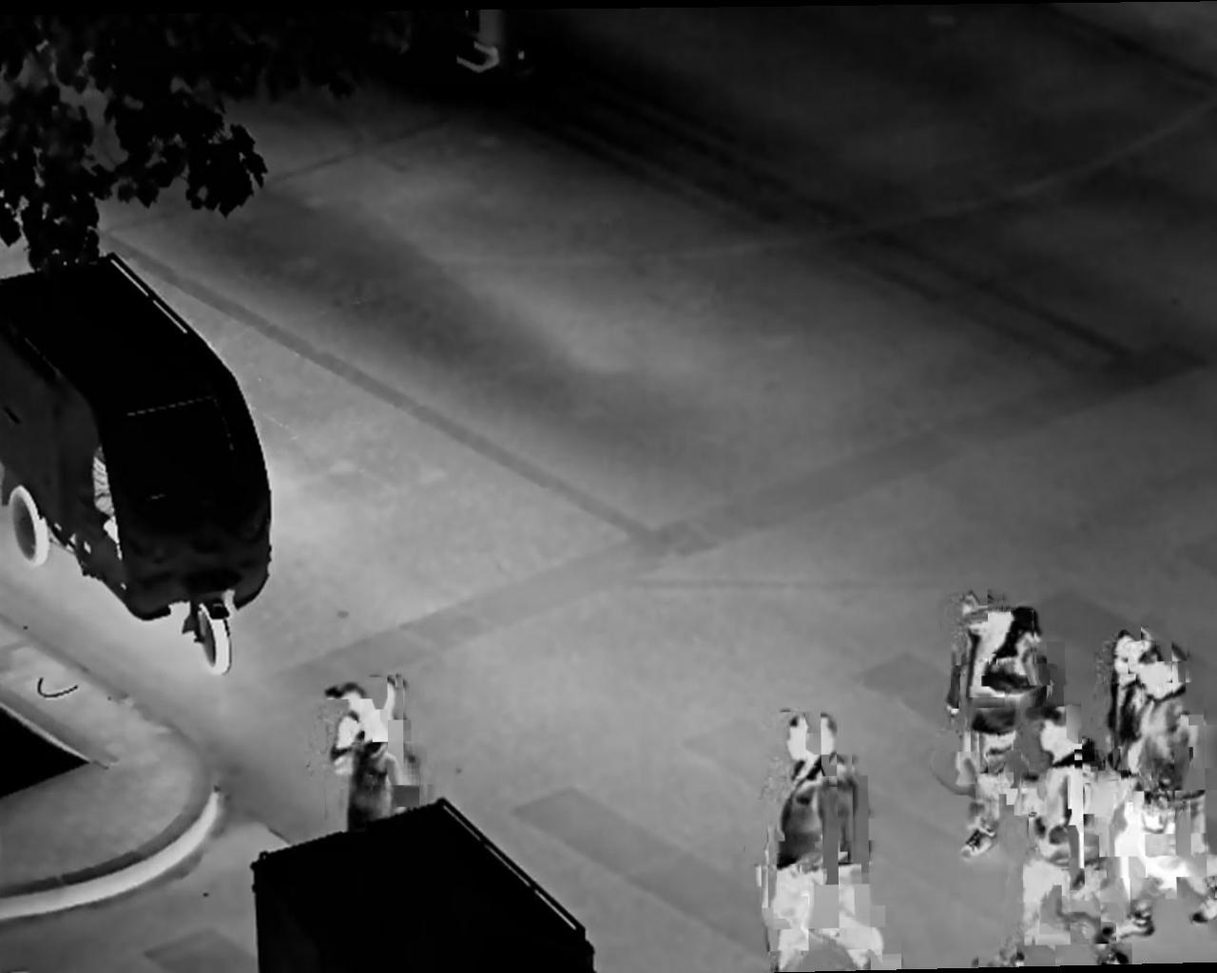person: (763, 705, 896, 973), (1110, 647, 1217, 935), (1081, 629, 1187, 905), (944, 590, 1053, 832), (1036, 711, 1120, 971), (315, 675, 439, 836)
